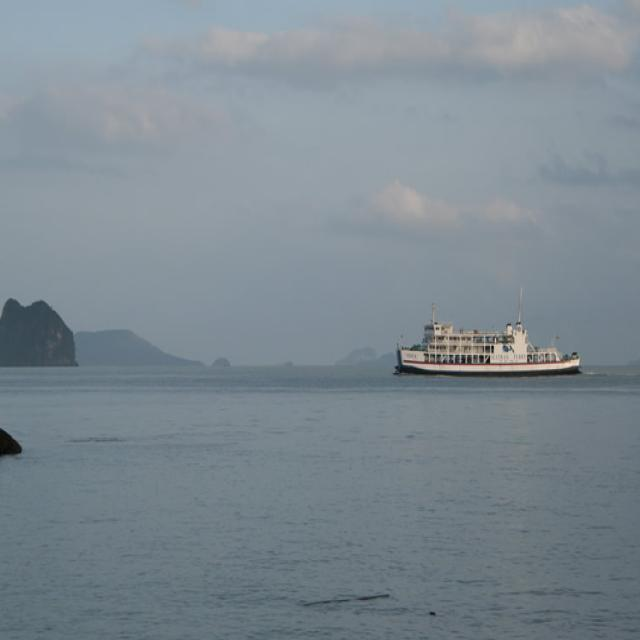houseboat: (377, 292, 593, 381)
